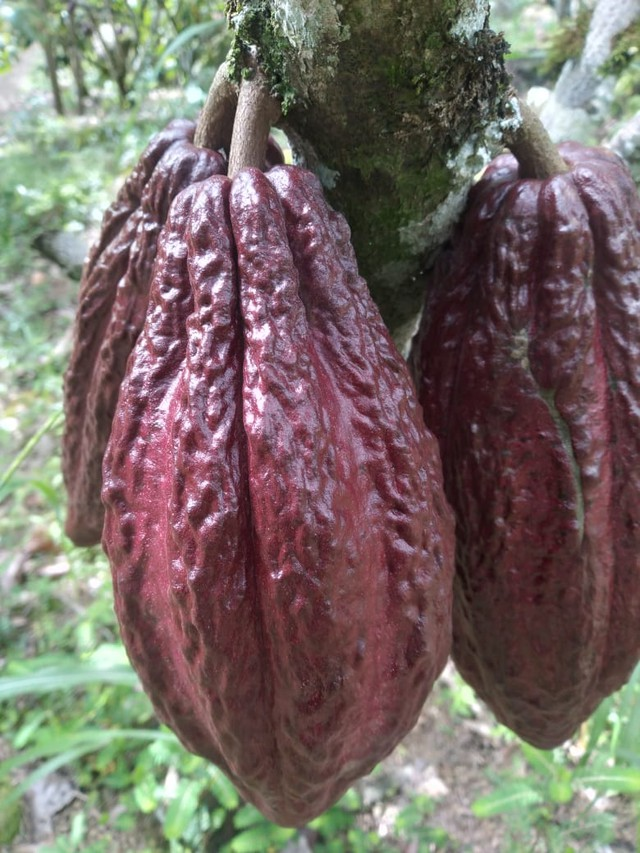Health: (75, 144, 469, 843), (413, 162, 636, 750), (502, 753, 525, 755)
